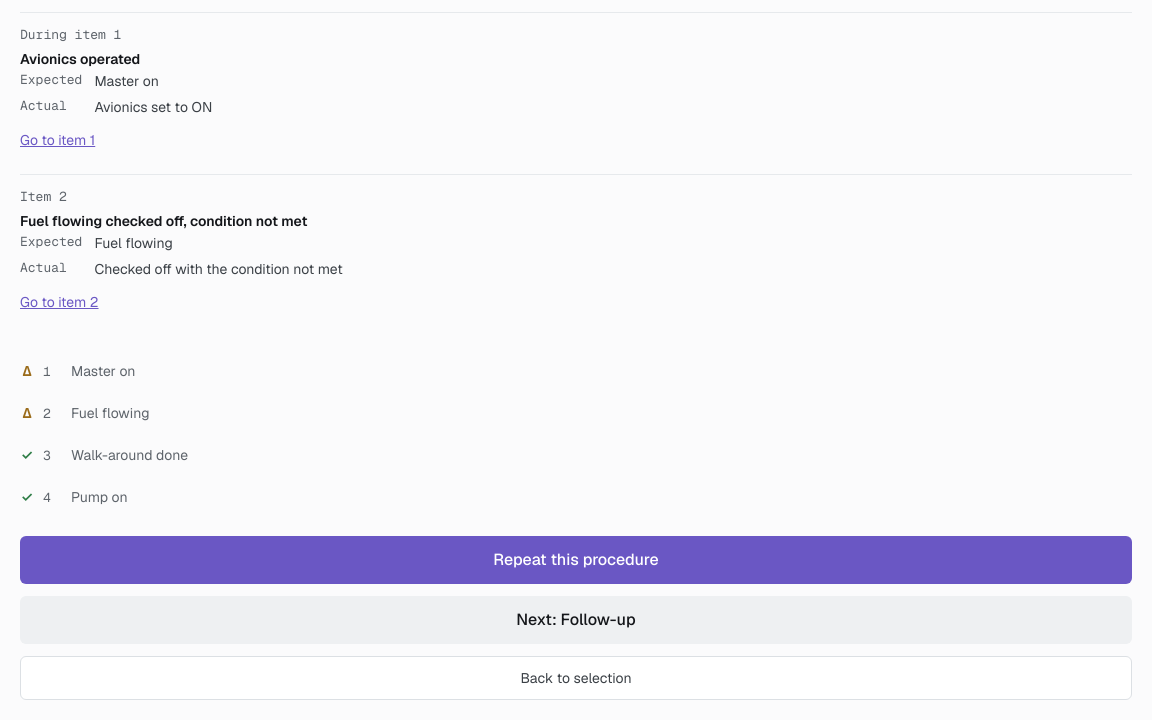
Test: full flight summary › sums up every leg and the whole flight after the last leg
(page scrolled)
Click the button "Next: Follow-up".
click(576, 620)  # box [20, 596, 1132, 644]
(page scrolled)
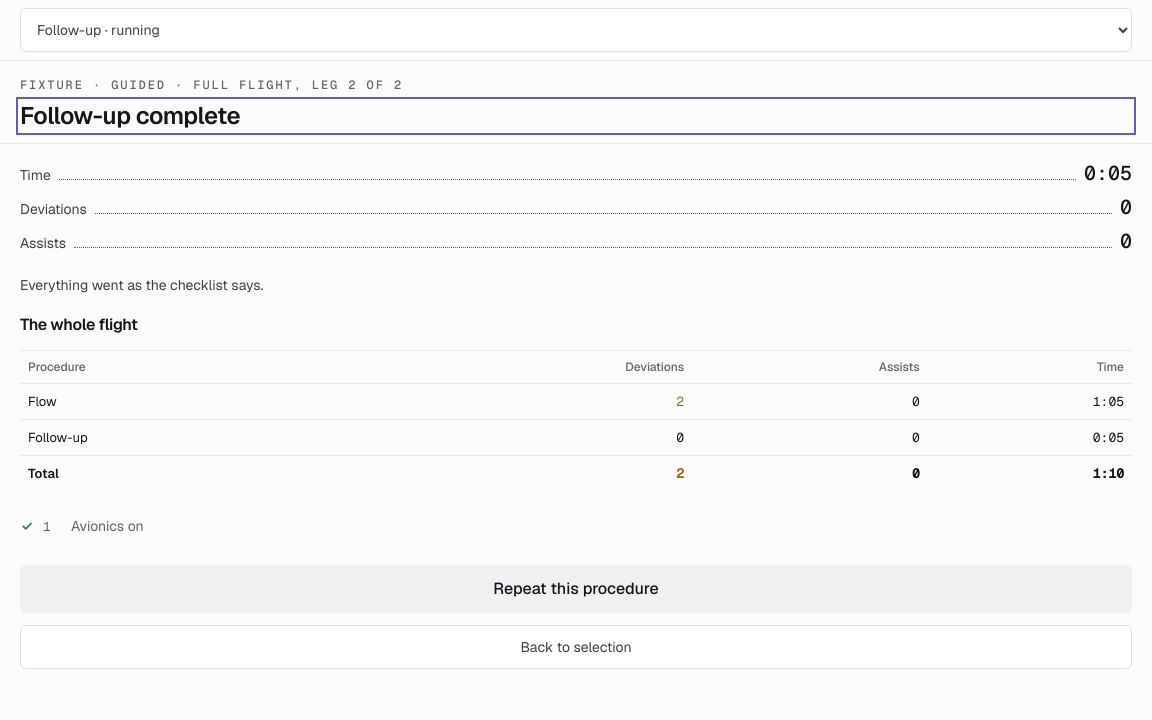
Check: the text "Fixture · Guided · Full flight, leg 2 of 2" is shown, box [20, 77, 403, 93]
Check: the button "Next" is gone
